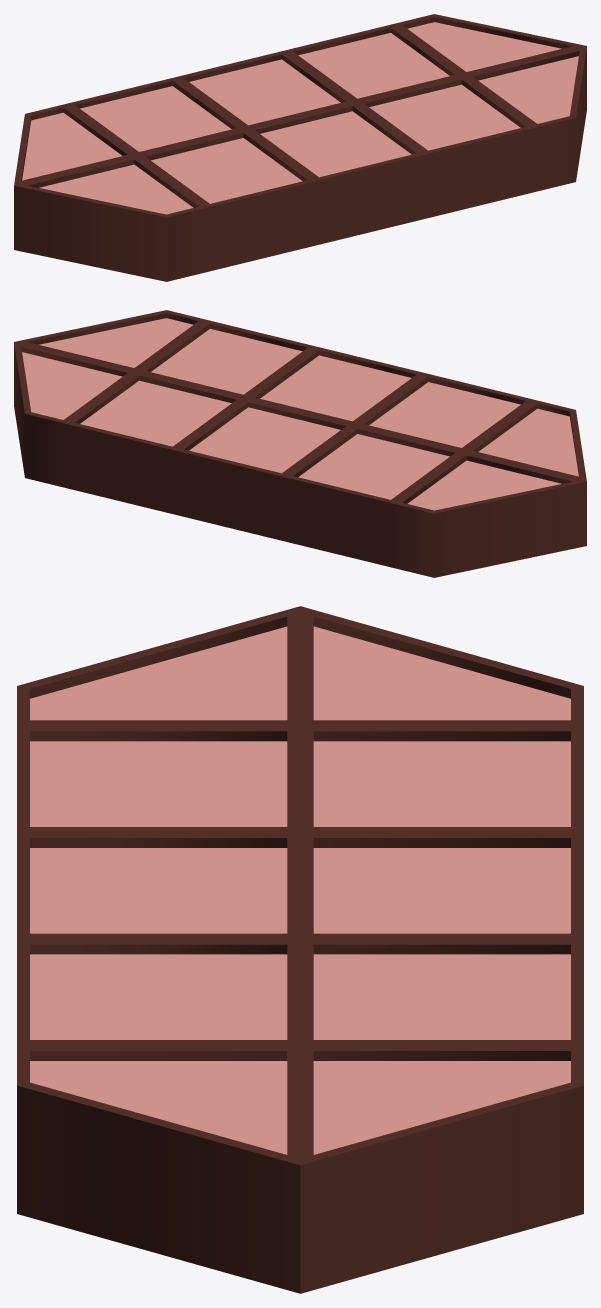
File: standFrutasNivel1_low.fbx
The picture shows the model from 3 angles, top to bottom: view 1: azimuth 30°, elevation 25°; view 2: azimuth 150°, elevation 25°; view 3: azimuth 270°, elevation 25°; orthographic projection. The views are drawn at different scales.
Parts seen in each view (by area): view 1: standNivel1_low, Frutas3_low, Frutas6_low, Frutas7_low, Frutas5_low, Frutas8_low, Frutas4_low, Frutas1_low, Frutas10_low, Frutas2_low, Frutas9_low; view 2: standNivel1_low, Frutas4_low, Frutas5_low, Frutas8_low, Frutas6_low, Frutas7_low, Frutas3_low, Frutas2_low, Frutas9_low, Frutas1_low, Frutas10_low; view 3: standNivel1_low, Frutas4_low, Frutas3_low, Frutas5_low, Frutas6_low, Frutas7_low, Frutas8_low, Frutas1_low, Frutas2_low, Frutas10_low, Frutas9_low.
Boxes of the visible parts, x1,y1,x2,y2 form: standNivel1_low: (14,14,586,281); Frutas3_low: (80,86,231,151); Frutas6_low: (260,111,411,177); Frutas7_low: (298,33,449,98); Frutas5_low: (189,59,340,125); Frutas8_low: (369,84,520,150); Frutas4_low: (151,138,302,203); Frutas1_low: (22,112,122,180); Frutas10_low: (478,56,578,123); Frutas2_low: (39,164,193,214); Frutas9_low: (407,22,561,71); standNivel1_low: (14,310,586,577); Frutas4_low: (369,382,520,447); Frutas5_low: (189,407,340,473); Frutas8_low: (151,329,302,394); Frutas6_low: (260,355,411,421); Frutas7_low: (80,380,231,446); Frutas3_low: (298,434,449,499); Frutas2_low: (478,408,578,476); Frutas9_low: (22,352,122,419); Frutas1_low: (407,460,561,510); Frutas10_low: (39,318,193,367); standNivel1_low: (17,606,583,1293); Frutas4_low: (30,741,287,826); Frutas3_low: (313,741,570,826); Frutas5_low: (313,848,570,933); Frutas6_low: (30,848,287,933); Frutas7_low: (313,954,570,1039); Frutas8_low: (30,954,287,1039); Frutas1_low: (313,626,570,720); Frutas2_low: (30,626,287,720); Frutas10_low: (30,1061,287,1154); Frutas9_low: (313,1061,570,1154).
Bounding box in the file's own units: 700 × 75 × 300.
